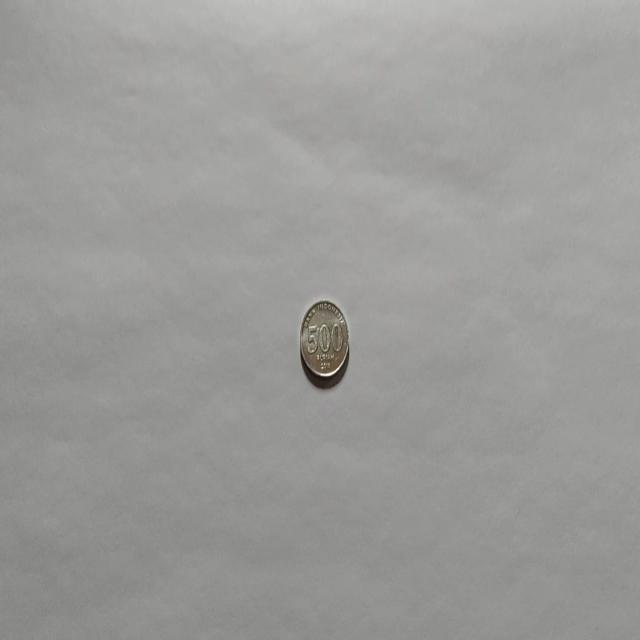lima ratus rupiah: (298, 297, 349, 386)
